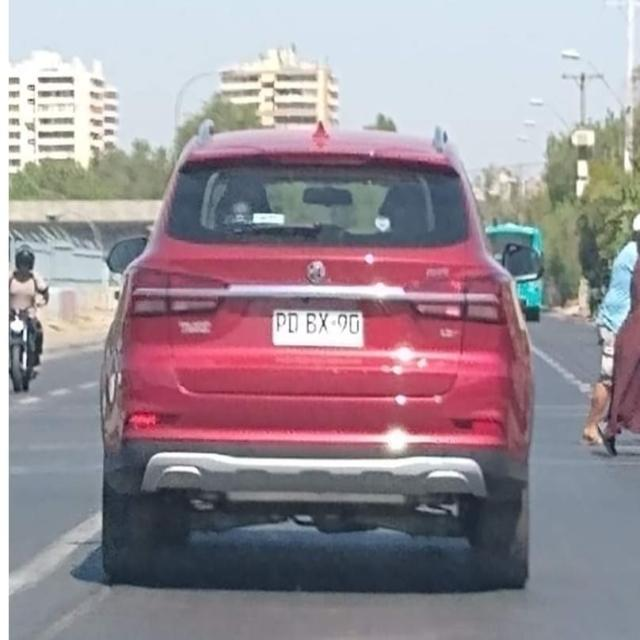patente: (270, 308, 364, 348)
